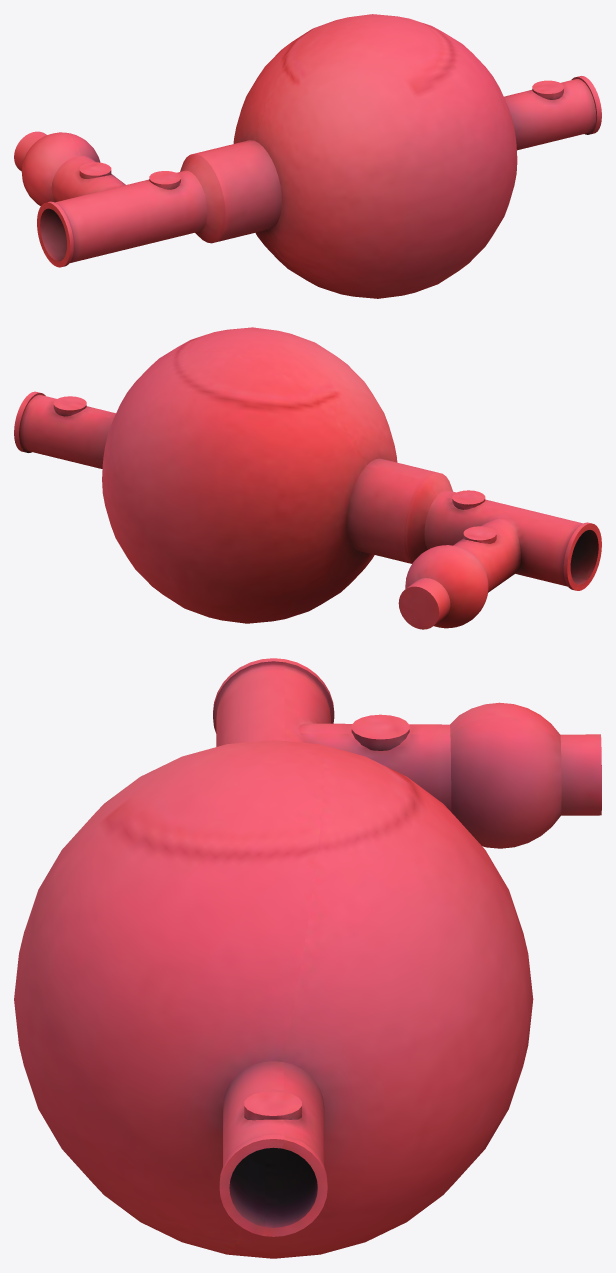
Rendered from peleuseball.glb.
3 views of the same model, one above another, from view 1: azimuth 30°, elevation 25°; view 2: azimuth 150°, elevation 25°; view 3: azimuth 270°, elevation 25° (orthographic). The views are drawn at different scales.
Parts seen in each view (by area): view 1: peleuseball; view 2: peleuseball; view 3: peleuseball.
Part boxes in pixels (<box>): peleuseball: <box>14,14,601,298</box>; peleuseball: <box>14,327,601,629</box>; peleuseball: <box>14,658,601,1258</box>.
Size of the model in its own units: 0.0619 by 0.0286 by 0.0324.
Materials: 1 (1 with a texture image).
